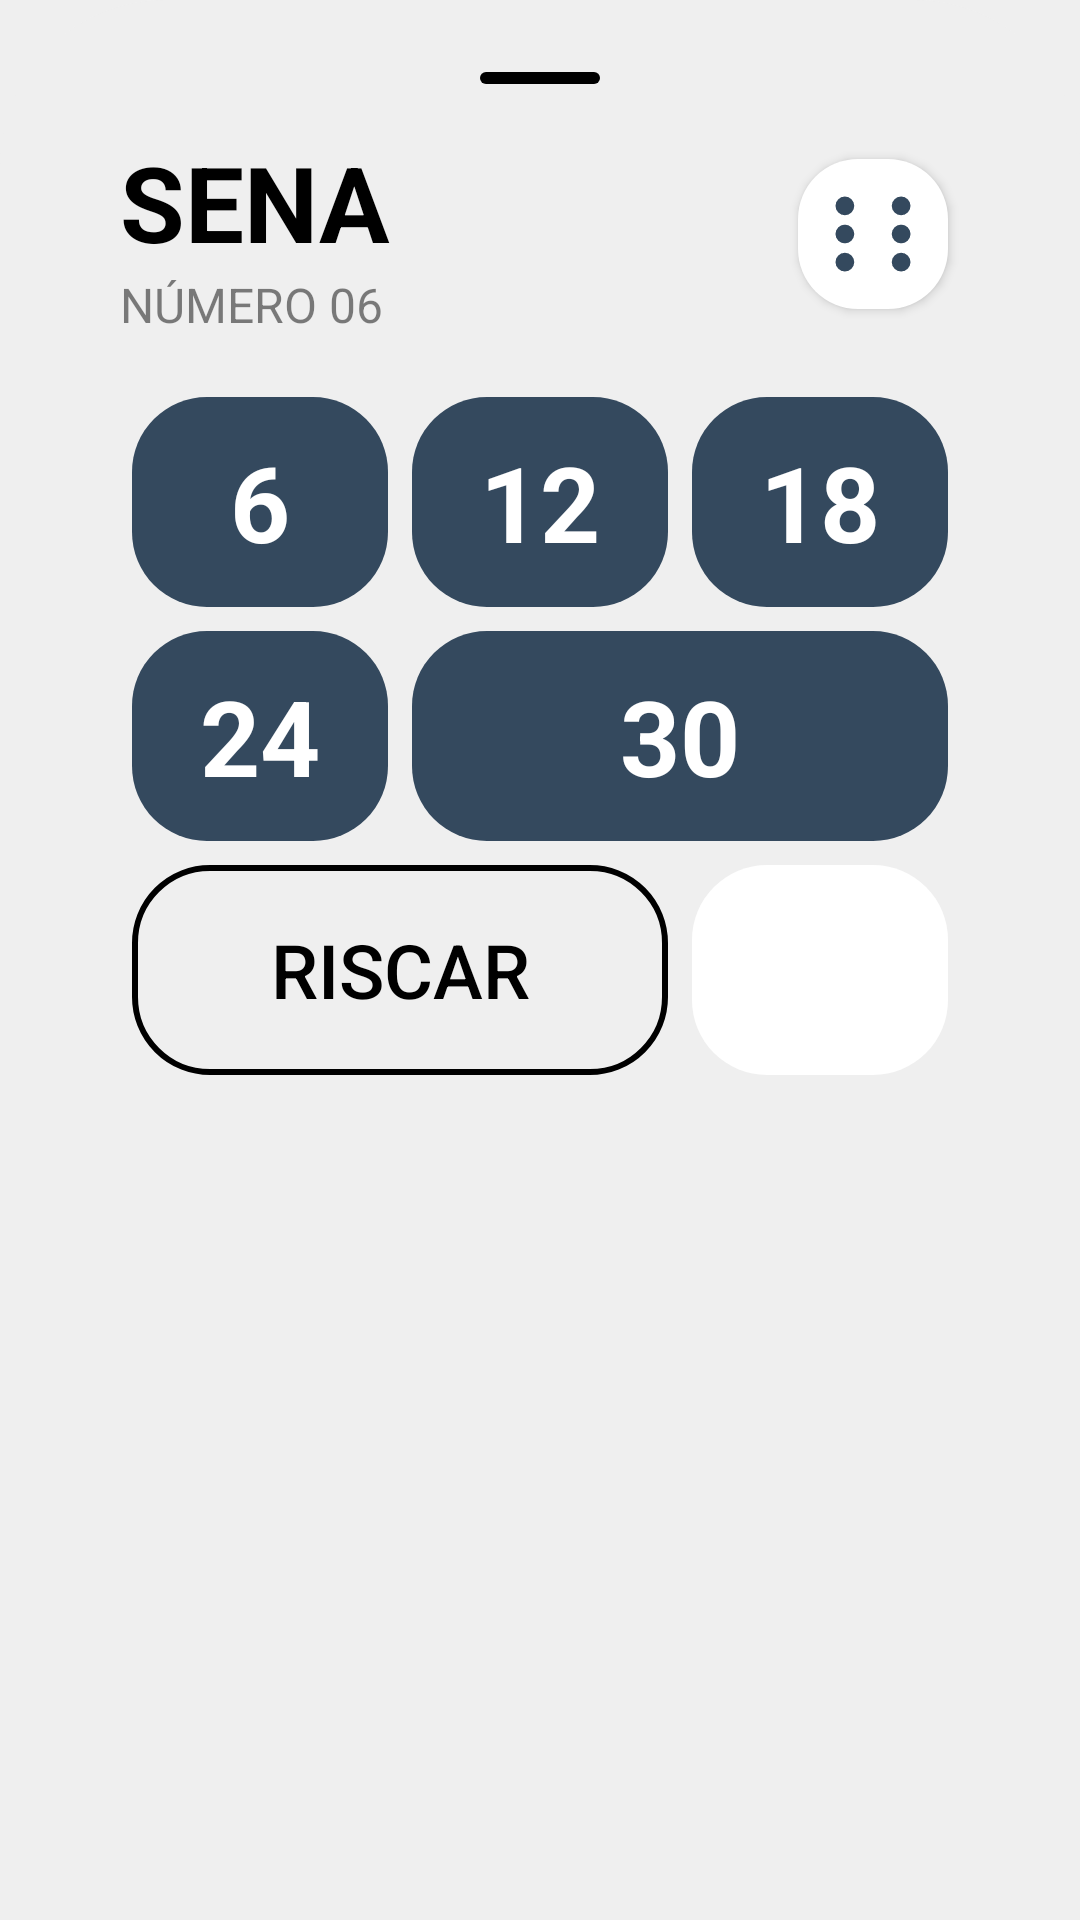

Icon bounding boxes for this 1080w x 1920h phone screenshot, format rect(x1, y1, x2, y2):
dice: rect(798, 159, 948, 309)
